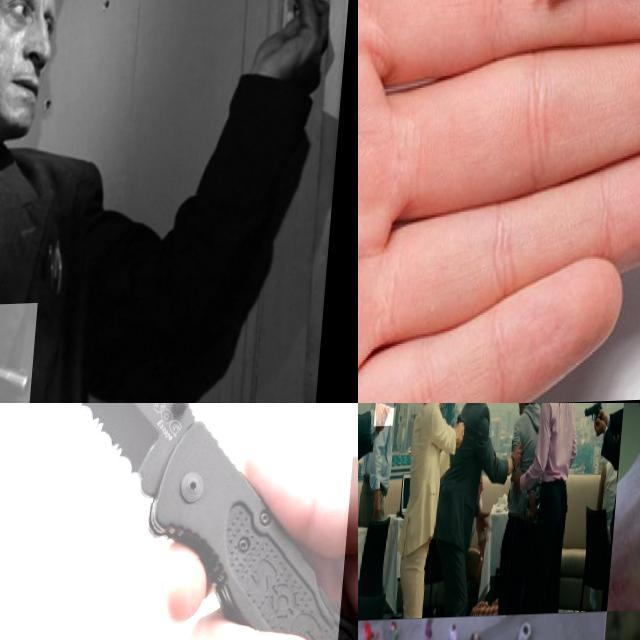-: (0, 403, 358, 640)
gun-knife-thesis - v11 Yolov5 augmented: (0, 305, 81, 403), (583, 403, 606, 429), (375, 403, 397, 426)
